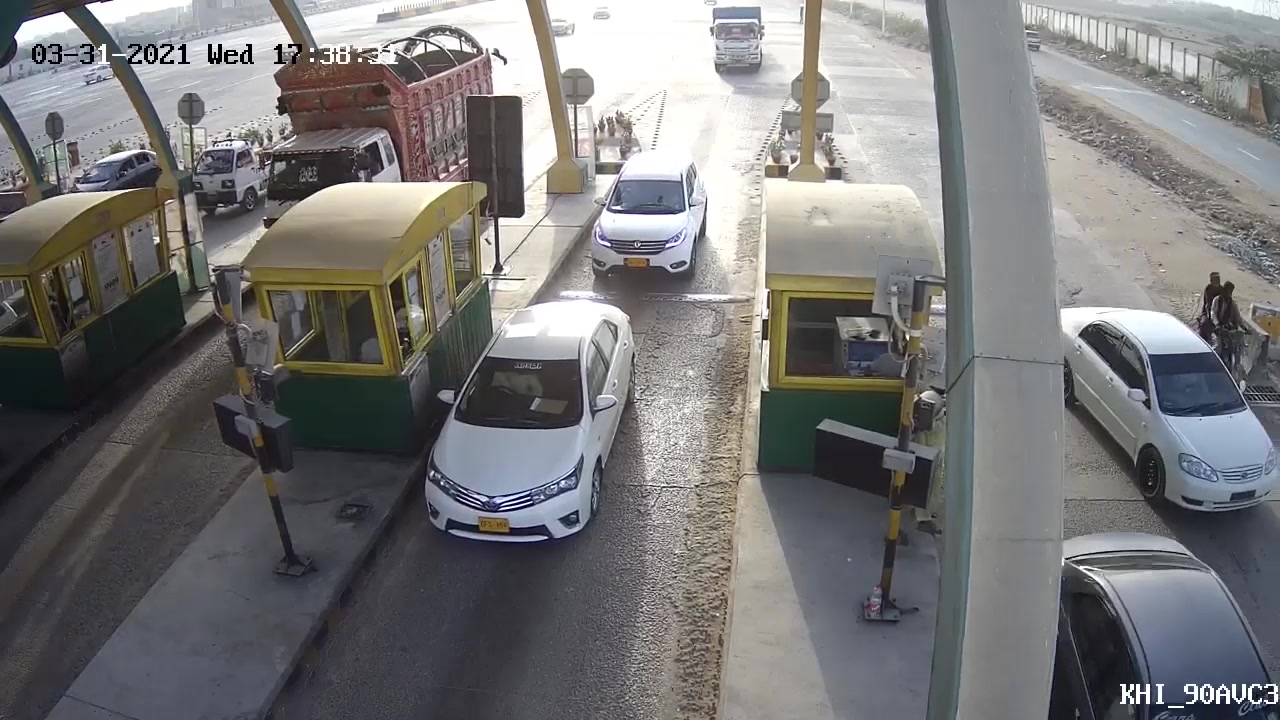F1: (427, 288, 638, 569), (596, 147, 713, 285)
